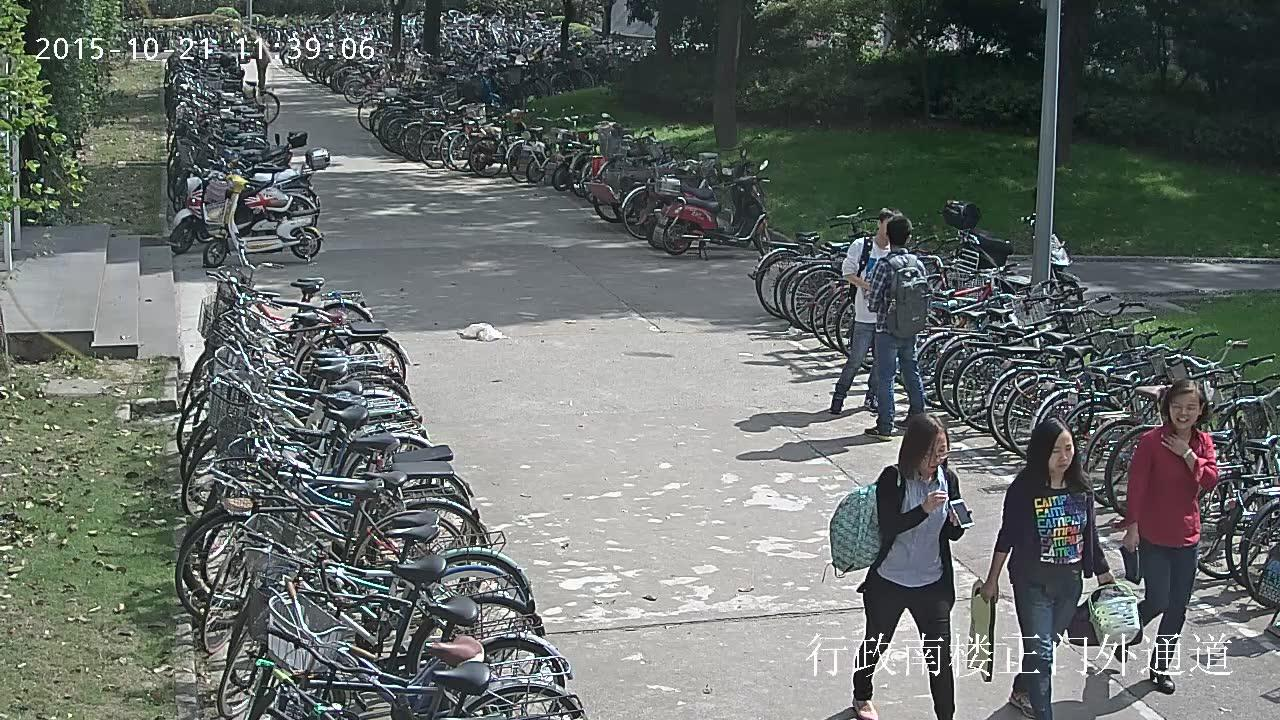person: (972, 417, 1144, 719), (820, 414, 974, 720), (1113, 378, 1219, 694), (830, 209, 904, 411), (865, 215, 928, 439), (252, 39, 270, 89)
